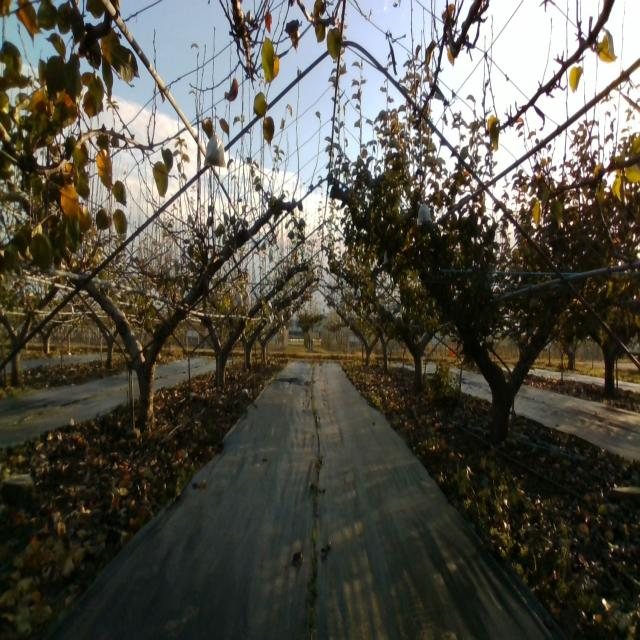pearbags: (203, 130, 227, 168), (418, 198, 431, 223)
